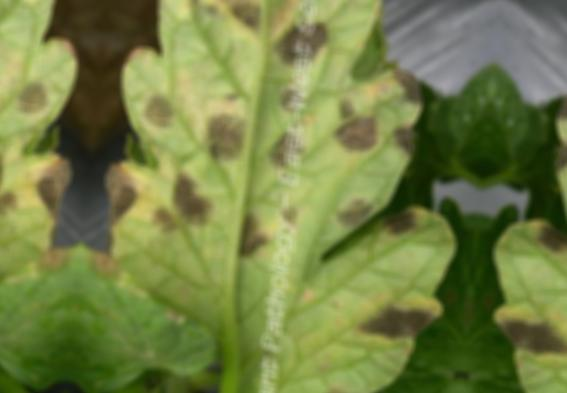Tomato mold leaf: (71, 0, 489, 393)
